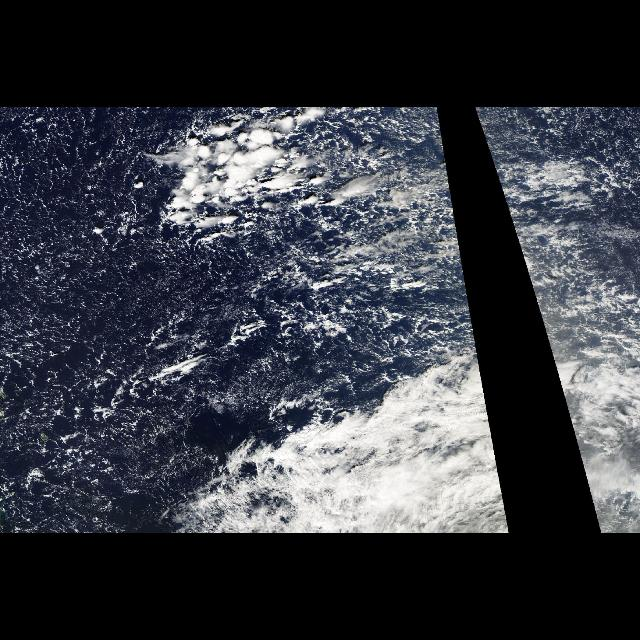Gravel: (178, 156, 464, 420), (1, 108, 170, 530), (490, 112, 636, 360)
